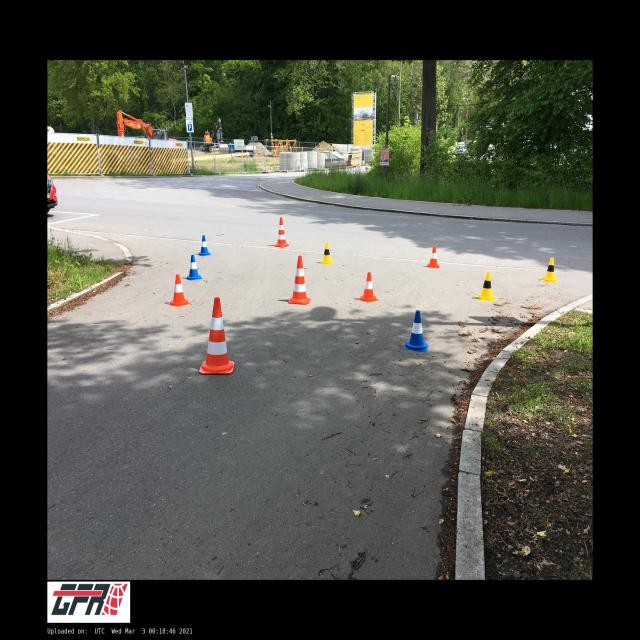blue_cone: (404, 310, 428, 352), (185, 254, 203, 280), (198, 235, 211, 256)
large_orange_cone: (199, 297, 234, 374), (288, 256, 311, 304), (274, 218, 289, 248)
orange_cone: (167, 274, 191, 306), (358, 272, 379, 302), (427, 246, 439, 268)
yellow_cone: (476, 272, 496, 301), (541, 257, 558, 283), (320, 243, 334, 264)
